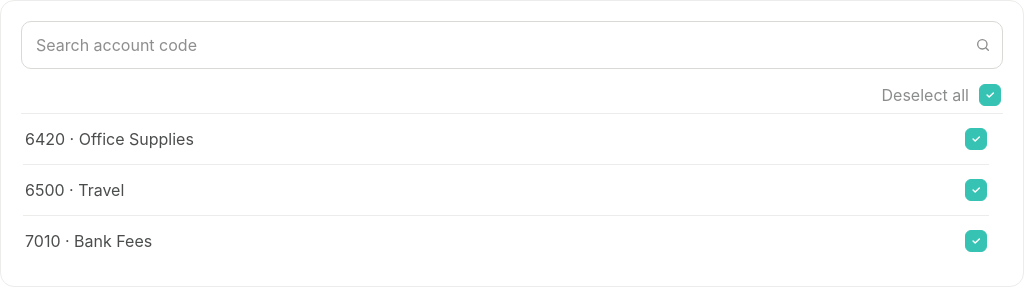
Test: AccountCodesCard › search › ignores case and surrounding whitespace
Type "  TRAVEL  " into the field with placeholder "Search account code" at [512, 45], box [21,21,1003,69]
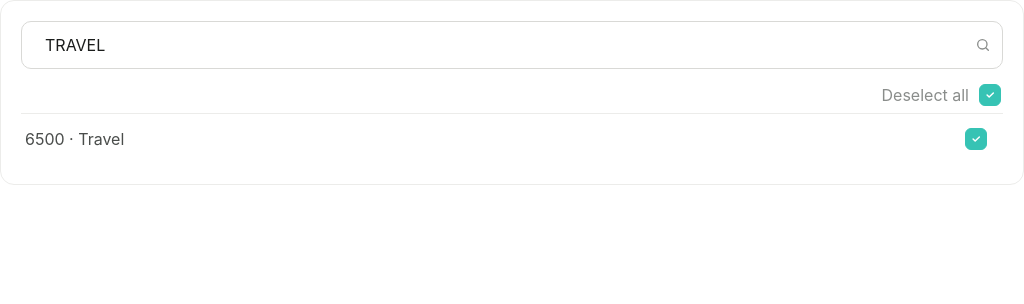
Now the number of list items with class "acc-row" is 1, box [25,128,987,150]
